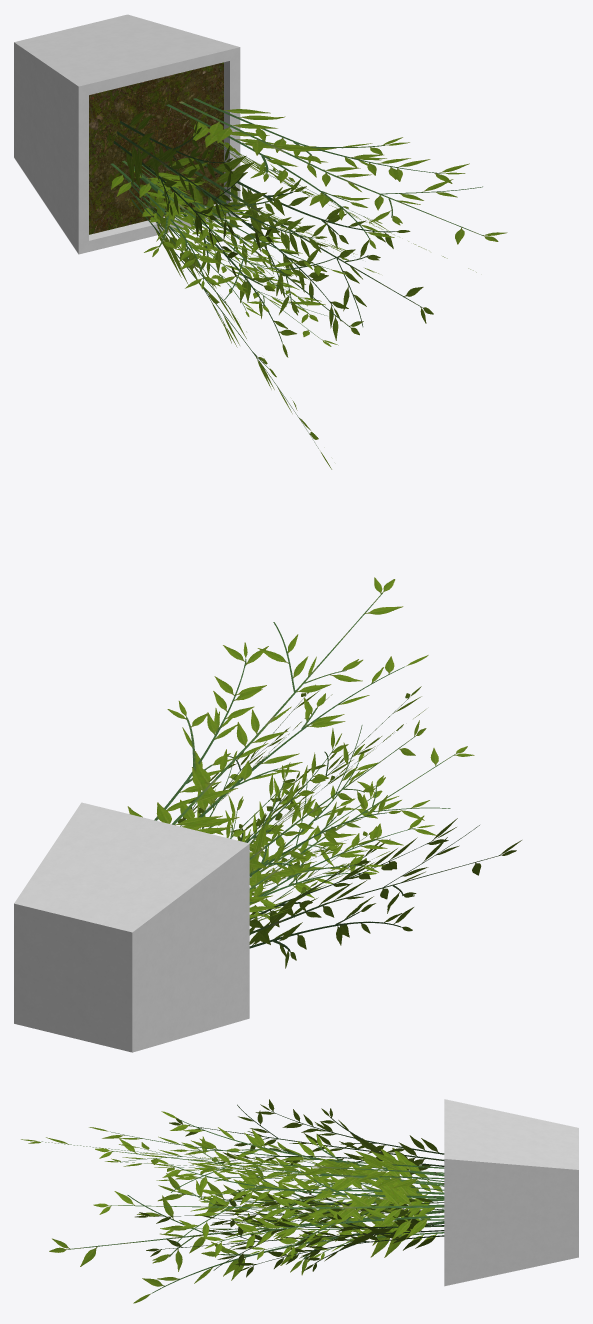
The picture shows the model from 3 angles, top to bottom: view 1: azimuth 30°, elevation 25°; view 2: azimuth 150°, elevation 25°; view 3: azimuth 270°, elevation 25°; orthographic projection. The views are drawn at different scales.
Visible parts, largest first — view 1: Pot_4_Low_PolyPlant_0; view 2: Pot_4_Low_PolyPlant_0; view 3: Pot_4_Low_PolyPlant_0.
Boxes of the visible parts, x1=… form: Pot_4_Low_PolyPlant_0: x1=14, y1=14, x2=507, y2=469; Pot_4_Low_PolyPlant_0: x1=14, y1=577, x2=521, y2=1052; Pot_4_Low_PolyPlant_0: x1=21, y1=1099, x2=578, y2=1303.
Size of the model in its own units: 0.9064 by 0.8938 by 2.07.
Materials: 1 (1 with a texture image).
